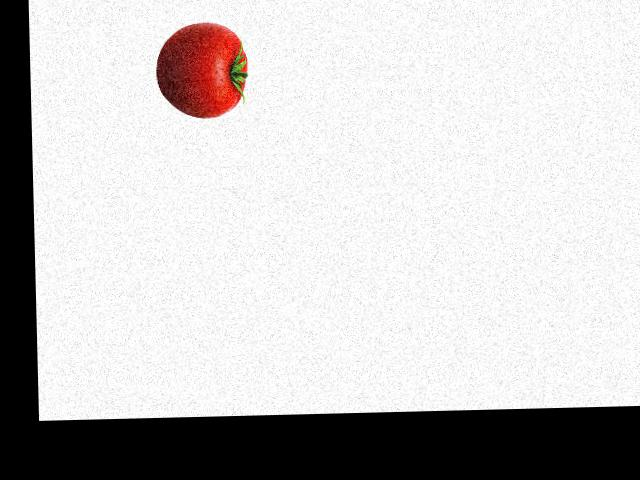tomato: (155, 32, 248, 119)
